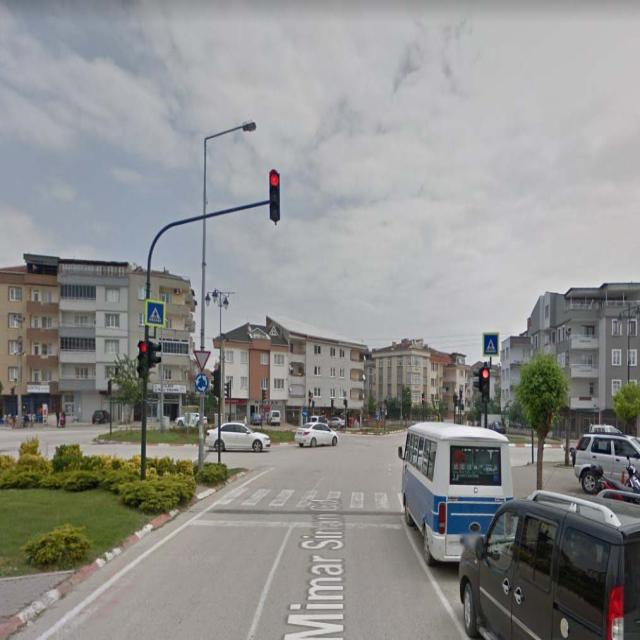kirmizi: (269, 168, 280, 218), (139, 340, 148, 374), (481, 367, 489, 400)
